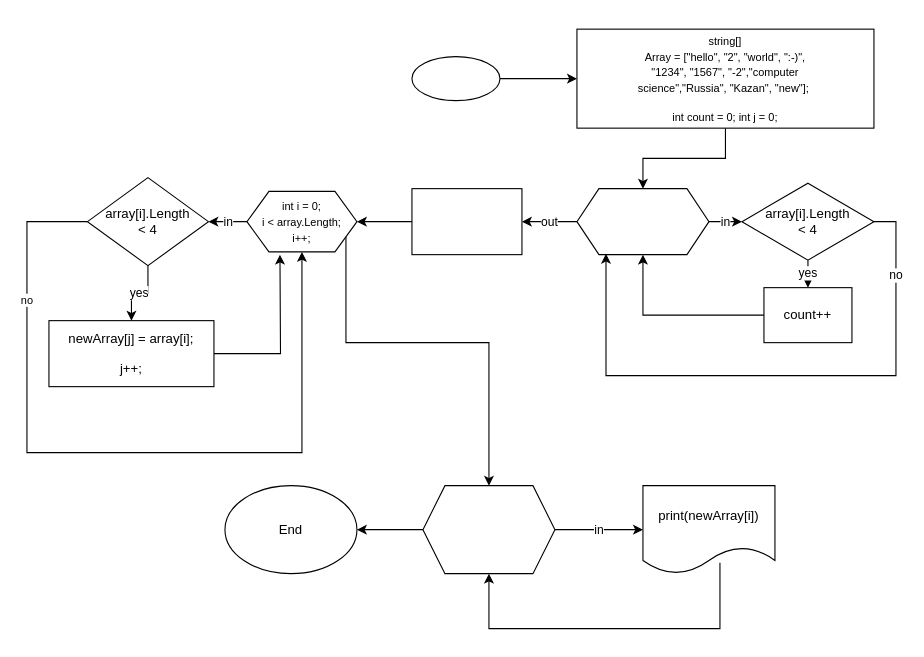
Image size: 924x657. Some labels were removed from this diagram. Each missing label, with the centre of its shape:
int i =0; i< array.Length; i++;: (x=642, y=221)
int i =0; i<newArray.Length; i++;: (x=488, y=529)
Start: (x=455, y=78)
string[] newArray = new string[count];: (x=466, y=221)
